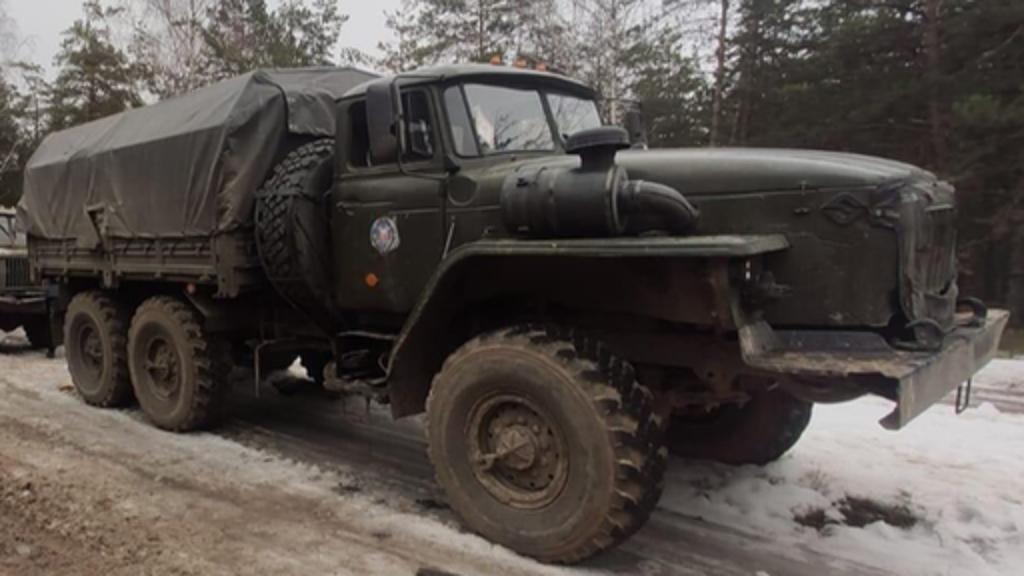TRUCK: (10, 40, 1006, 566)
